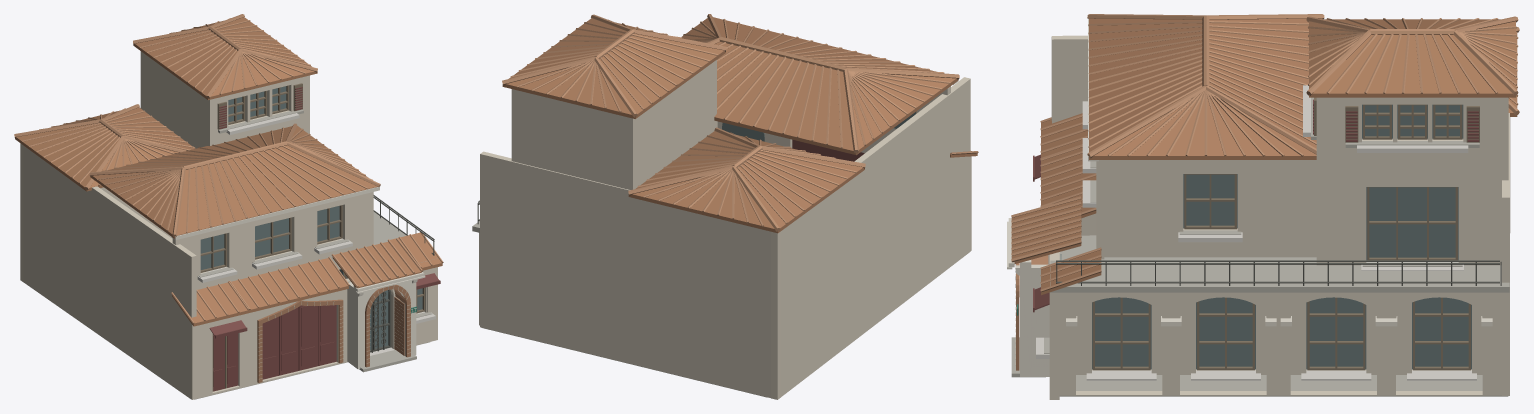
Rendered from changning-xinhua-lane-329-no17-lod.glb.
3 renders of one model, left to right at view 1: azimuth 30°, elevation 25°; view 2: azimuth 150°, elevation 25°; view 3: azimuth 270°, elevation 25°, orthographic. The views are drawn at different scales.
Visible parts, largest first — view 1: 新华路329弄17号住宅; view 2: 新华路329弄17号住宅; view 3: 新华路329弄17号住宅.
Boxes of the visible parts, box(x1,y1,x2,y2) form: 新华路329弄17号住宅: box(14, 14, 443, 399); 新华路329弄17号住宅: box(472, 14, 978, 399); 新华路329弄17号住宅: box(1007, 14, 1519, 399).
Size of the model in its own units: 12.18 by 10.31 by 15.1.
